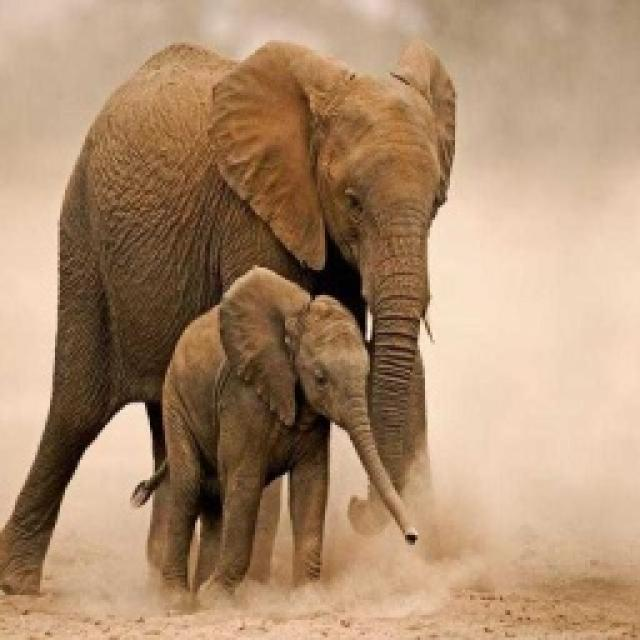not_pig: (0, 35, 458, 597), (135, 262, 417, 612)
